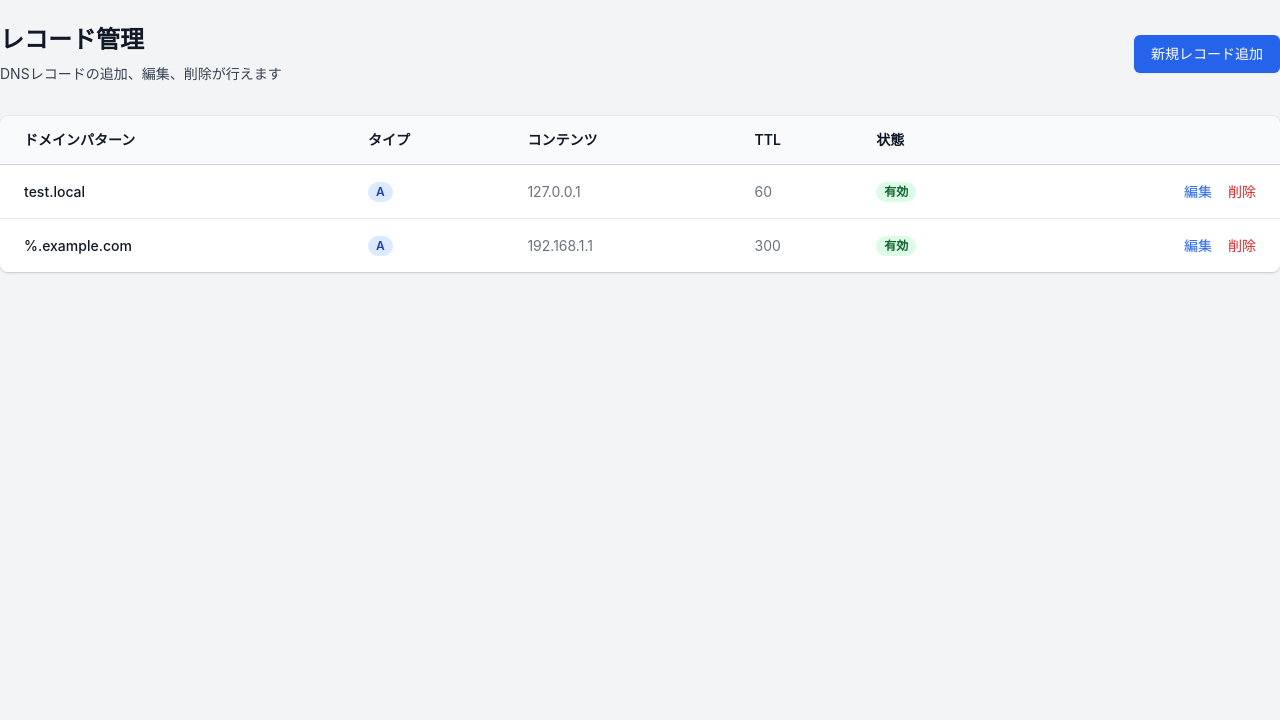
Scenario: Records › 編集ボタンでフォームが開く
The image size is (1280, 720).
Expected: the text "test.local" is shown, [0, 164, 356, 218]
Click the button "編集" in the row of "test.local".
click(1198, 192)  # box [1184, 182, 1212, 202]
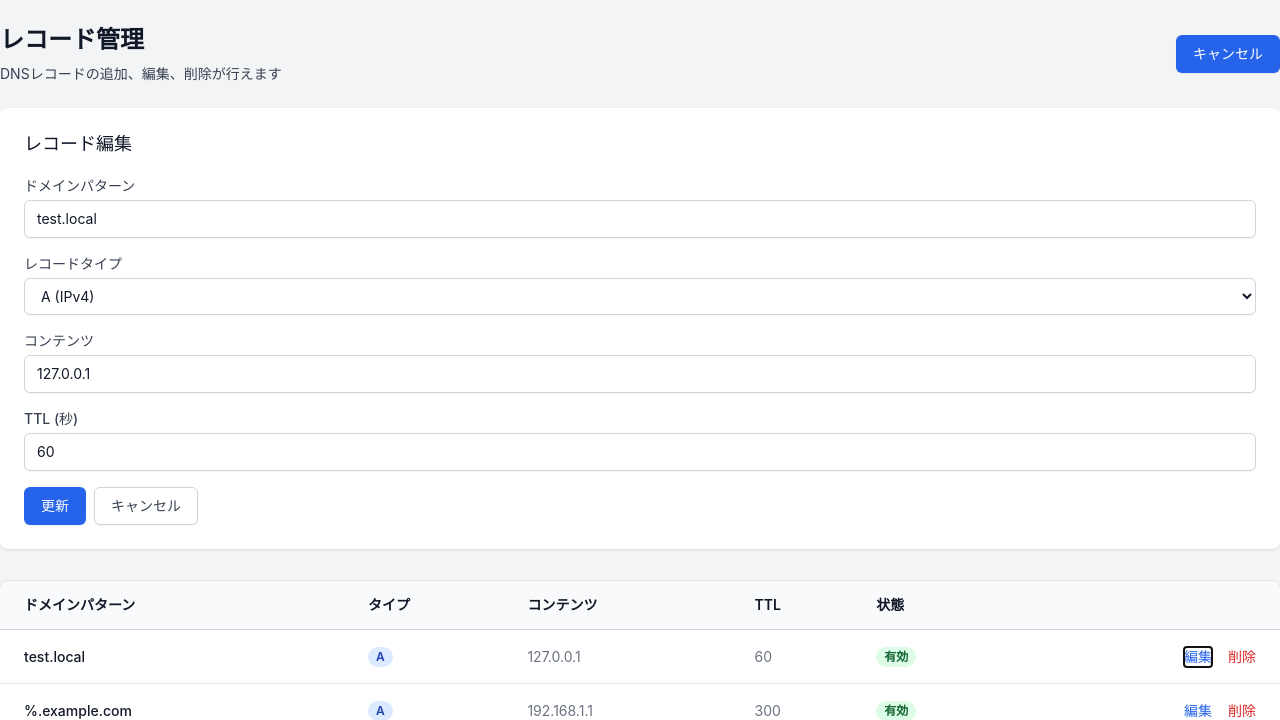
Result: the heading "レコード編集" is shown at [24, 133, 132, 154]
Result: the button "更新" is shown at [24, 487, 86, 525]
